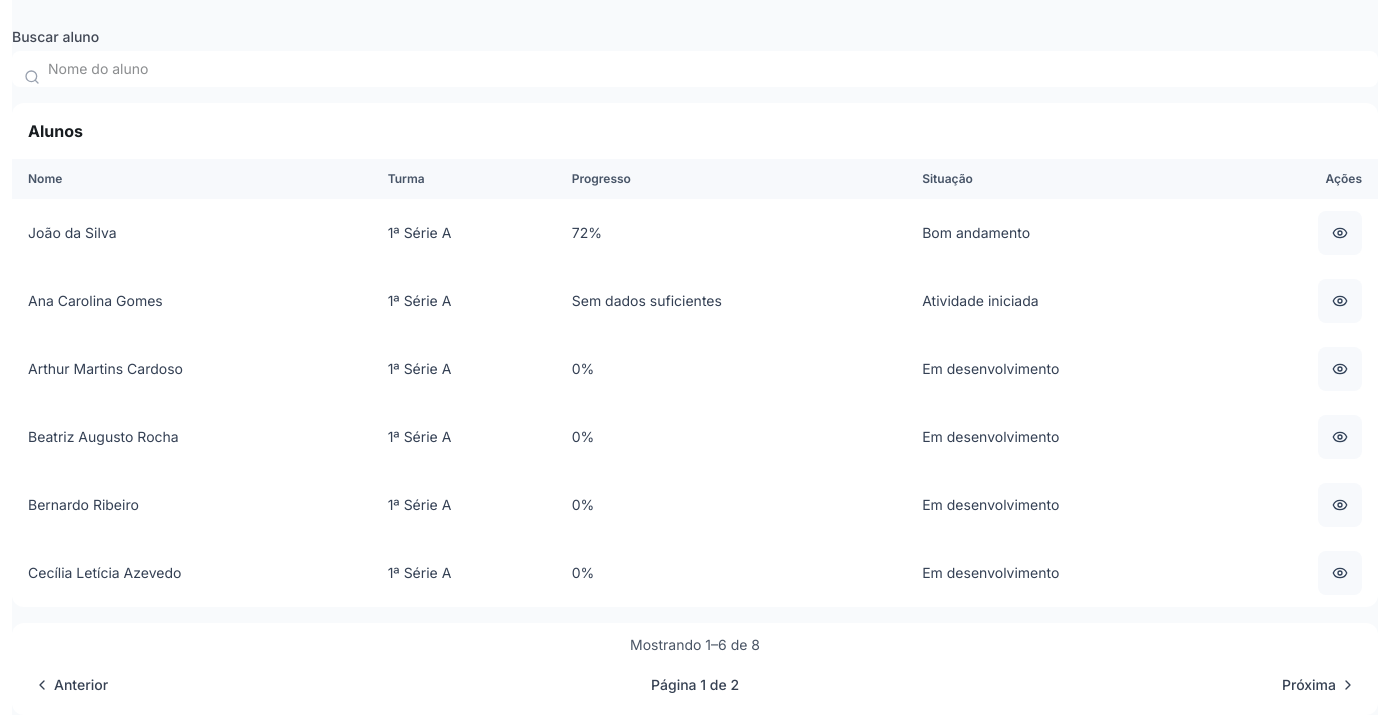
Test: PedagogicalCenterOverviewPage › busca sem acentos e reinicia a página
The width and height of the screenshot is (1390, 715).
(page scrolled)
Click the button with aria-label "Próxima página" at (1319, 685), box left=1272, top=667, right=1366, bottom=703
(page scrolled)
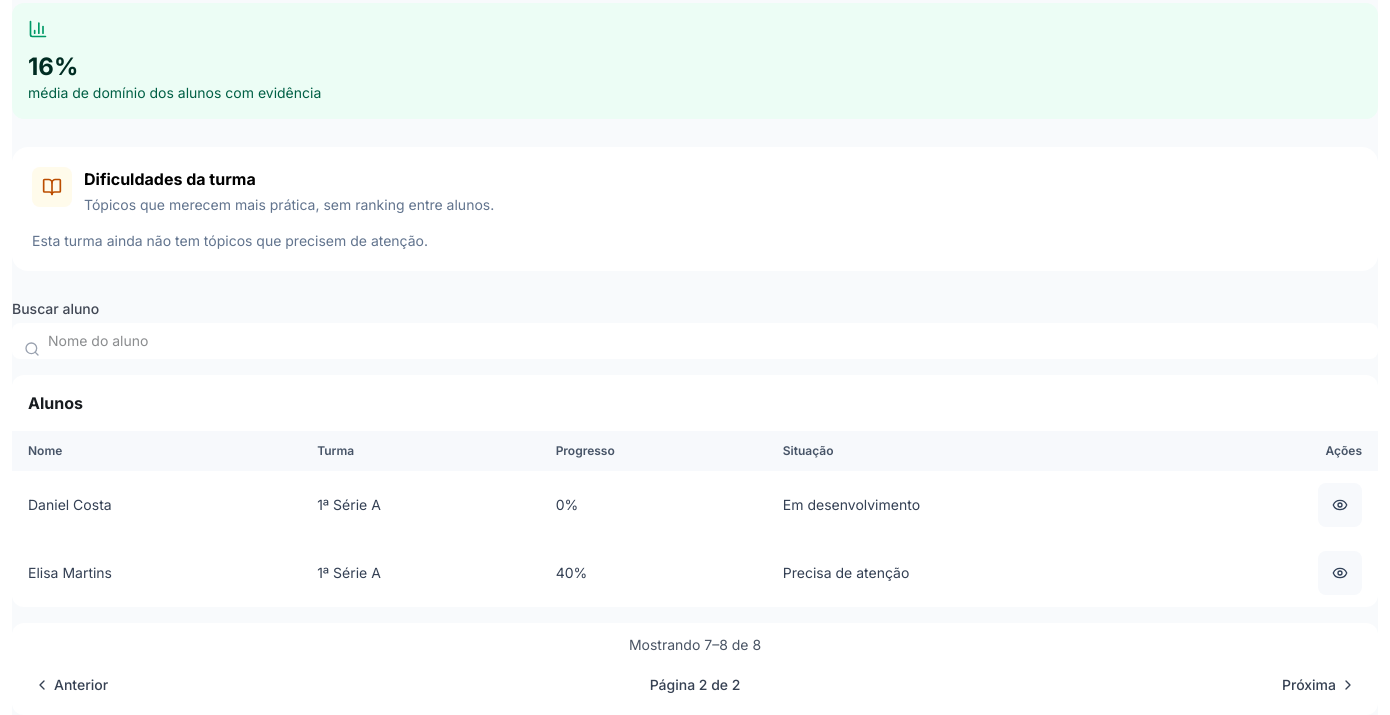
Expected: the text "Página 2 de 2" is shown, left=650, top=676, right=740, bottom=693
Type " joao " into the search field labelled "Buscar aluno" at (695, 341), box left=12, top=323, right=1378, bottom=359
(page scrolled)
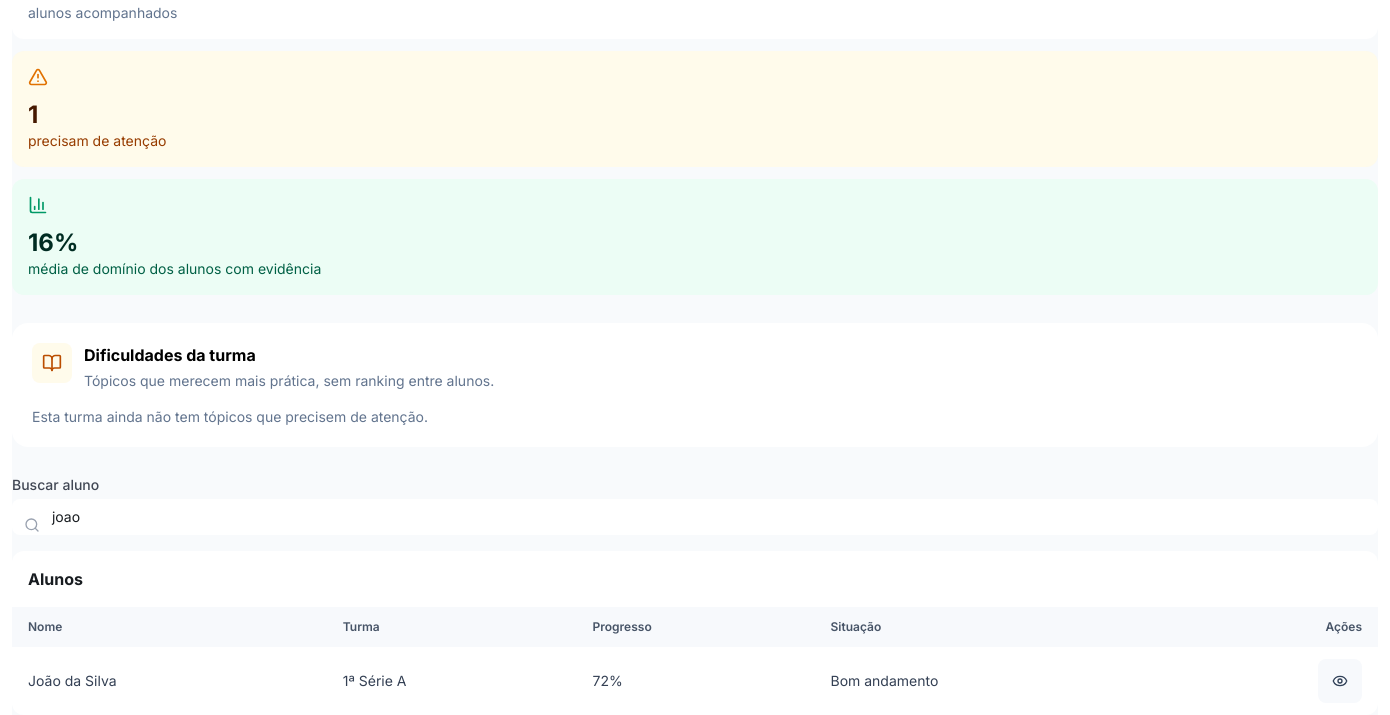
Expected: the text "João da Silva" is shown, left=12, top=647, right=327, bottom=714
Expected: the text "Daniel Costa" is gone
